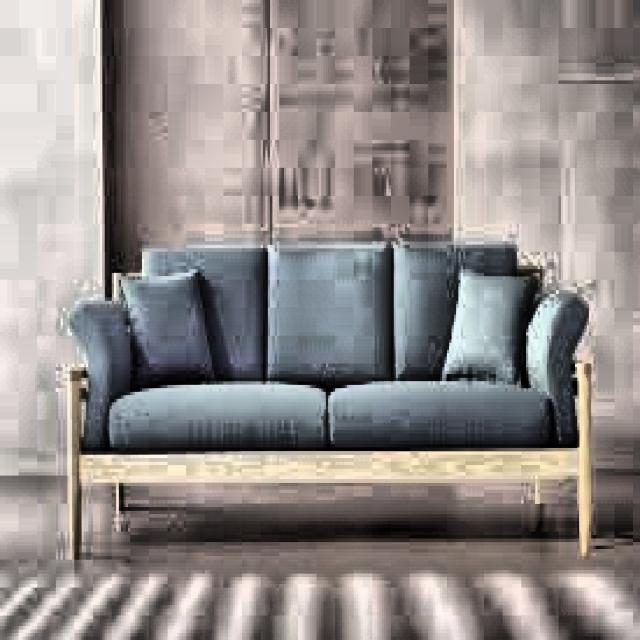sofa: (51, 248, 610, 570)
